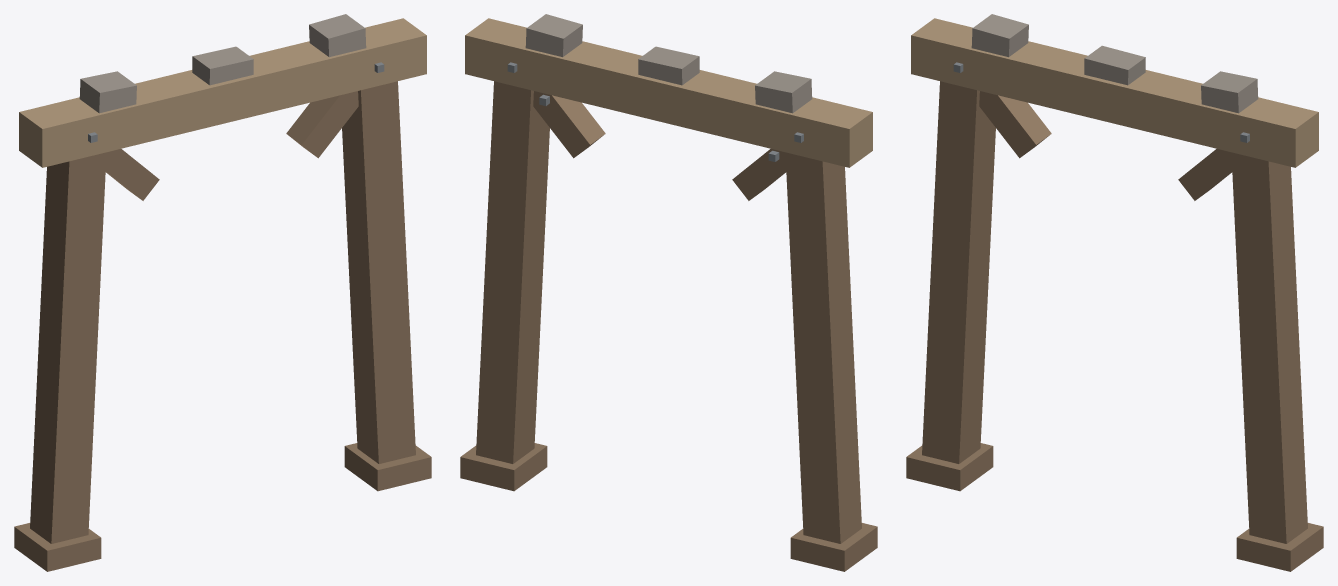
Rendered from mine_arch.glb.
3 renders of one model, left to right at view 1: azimuth 30°, elevation 25°; view 2: azimuth 150°, elevation 25°; view 3: azimuth 330°, elevation 25°, orthographic.
Parts seen in each view (by area): view 1: mine_arch; view 2: mine_arch; view 3: mine_arch.
Part boxes in pixels (x1,y1,x2,y2): mine_arch: (14, 14, 431, 571); mine_arch: (460, 14, 877, 571); mine_arch: (906, 14, 1323, 571).
Size of the model in its own units: 2.28 by 2.61 by 0.34.
